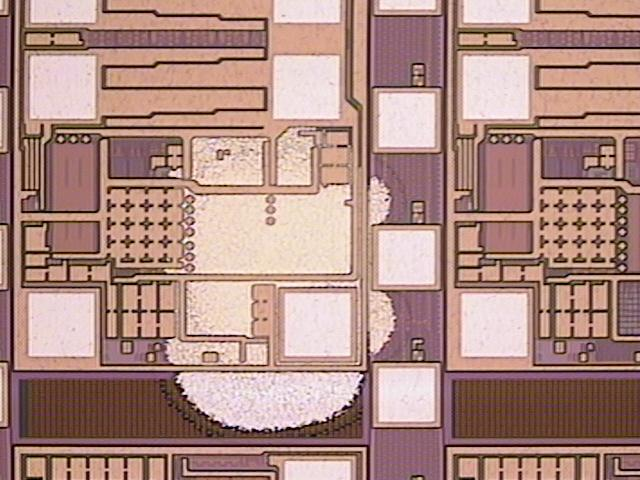BLOCK ETCH: (124, 88, 423, 452)
